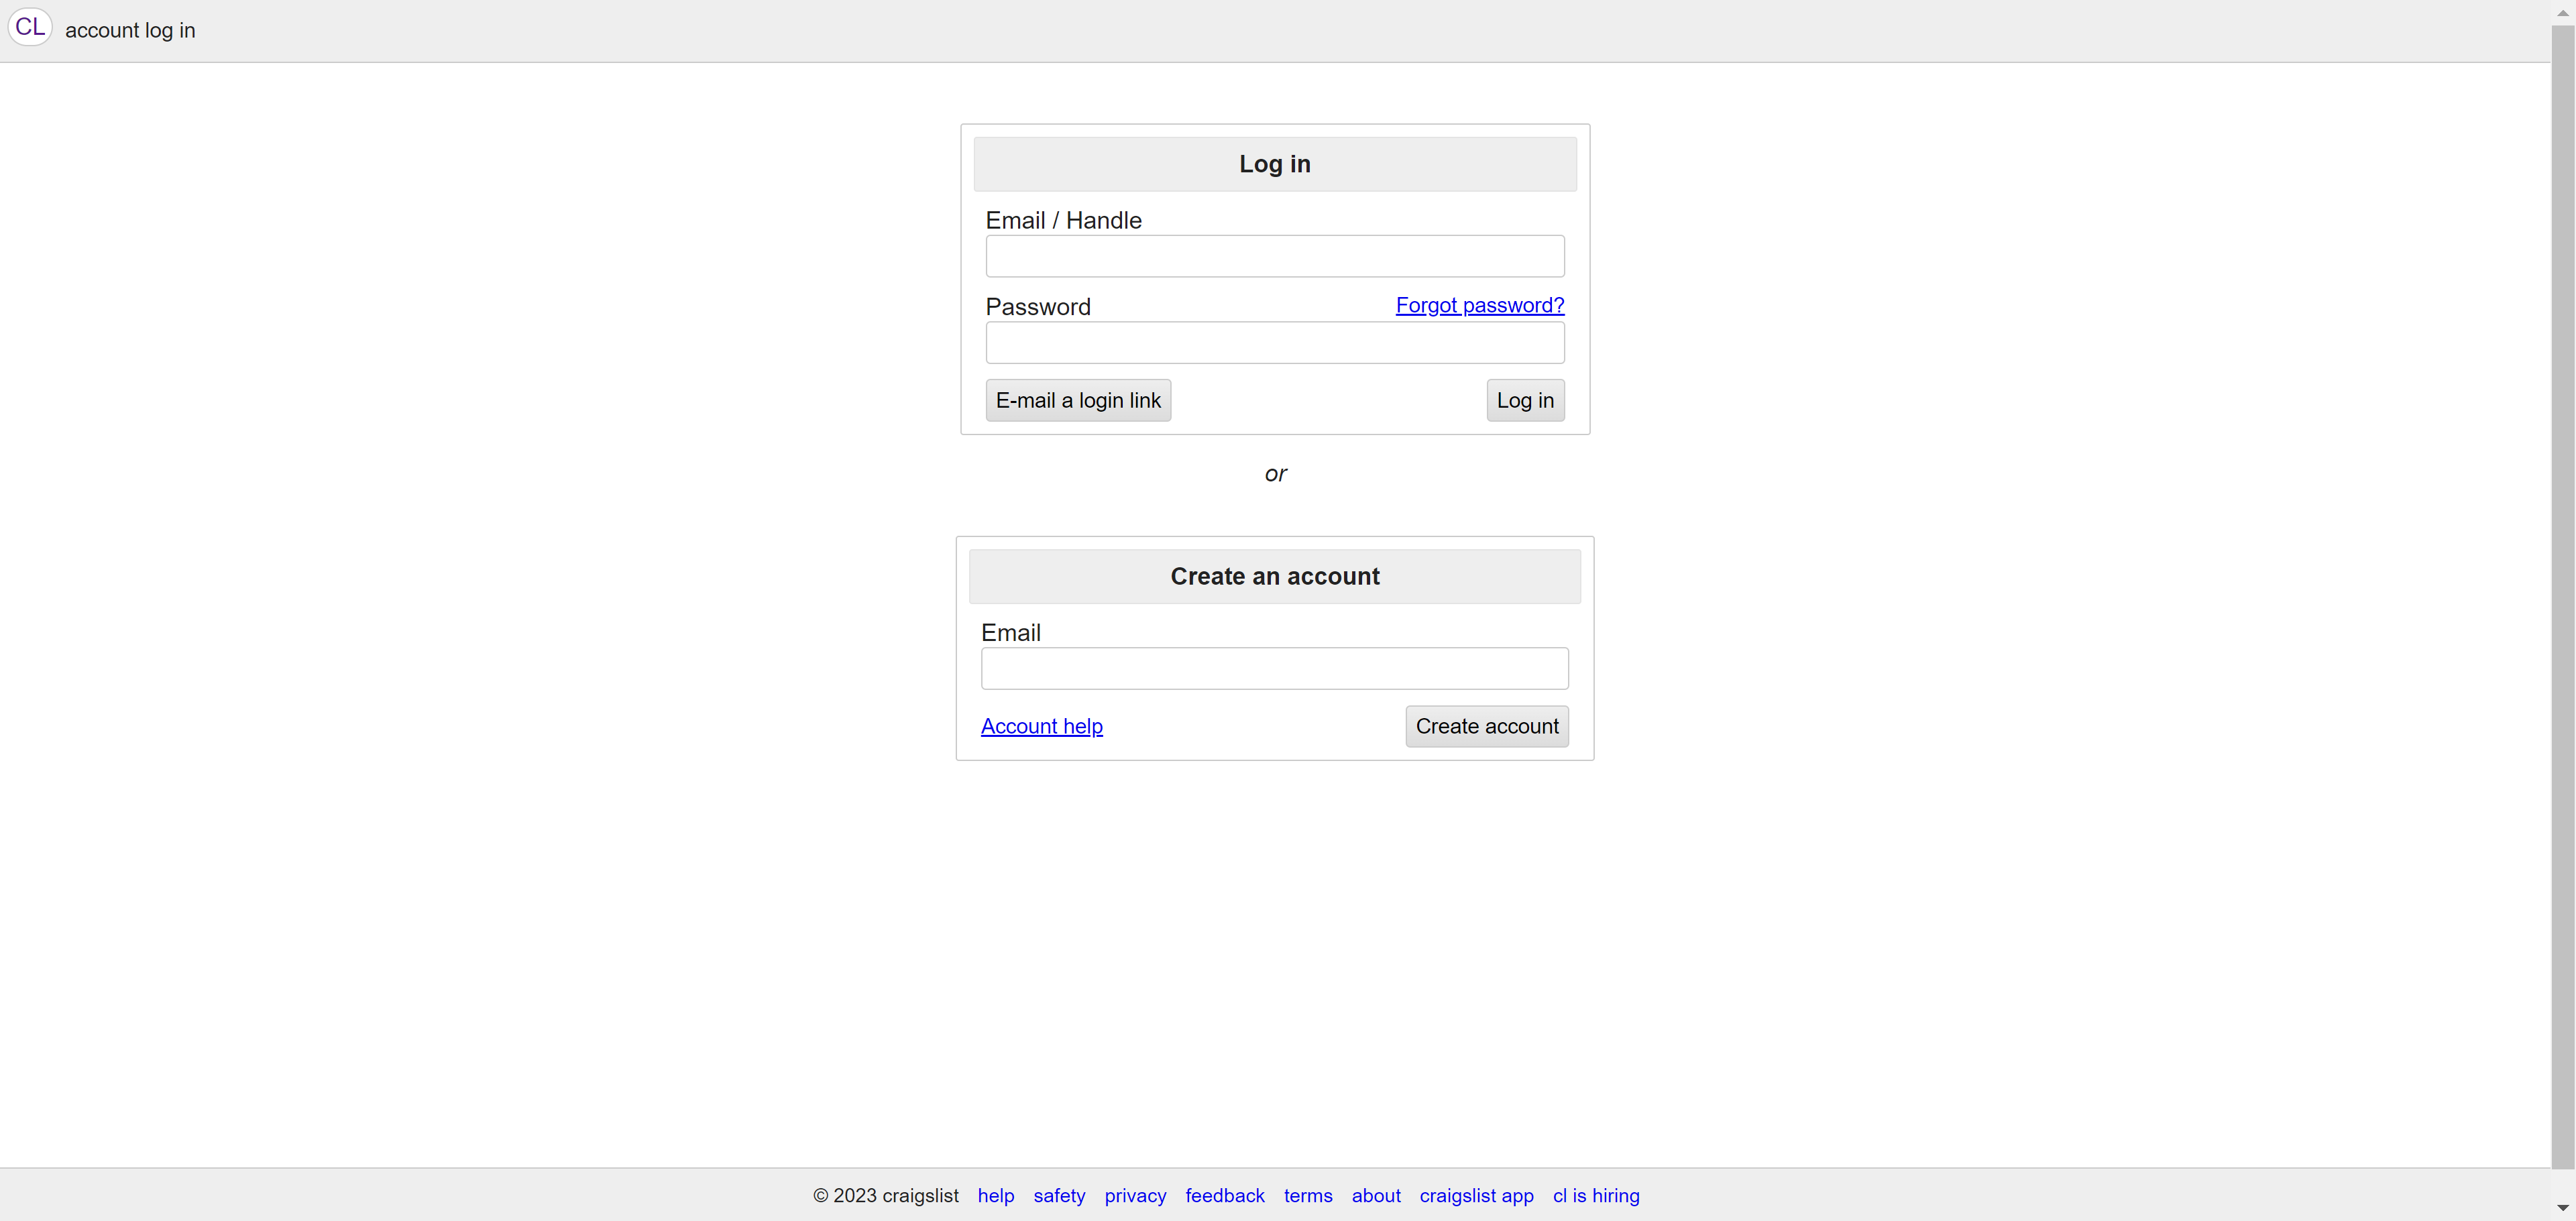login_button: (1487, 378, 1564, 422)
login_form: (973, 200, 1577, 429)
